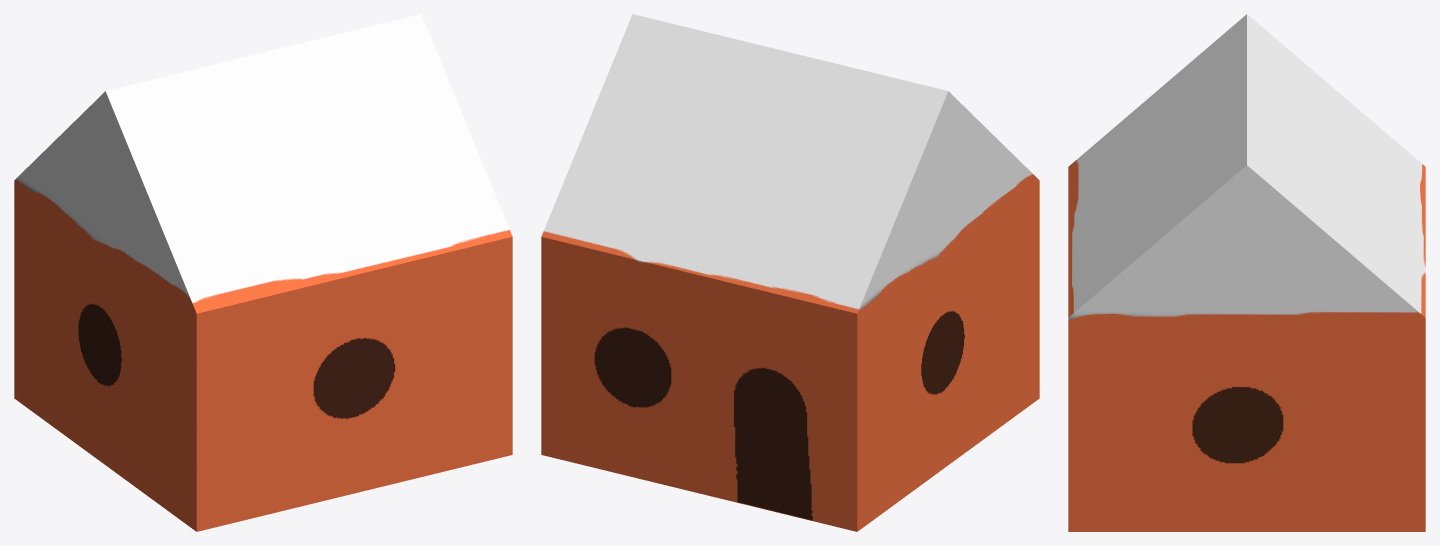
The model's file is ASD.glb.
3 renders of one model, left to right at view 1: azimuth 30°, elevation 25°; view 2: azimuth 150°, elevation 25°; view 3: azimuth 270°, elevation 25°, orthographic.
Parts seen in each view (by area): view 1: Cube; view 2: Cube; view 3: Cube.
Boxes of the visible parts, x1=… form: Cube: x1=14, y1=14, x2=512, y2=531; Cube: x1=541, y1=14, x2=1039, y2=531; Cube: x1=1068, y1=14, x2=1425, y2=531.
Size of the model in its own units: 2 by 2.26 by 2.
1 material, 1 textured.
